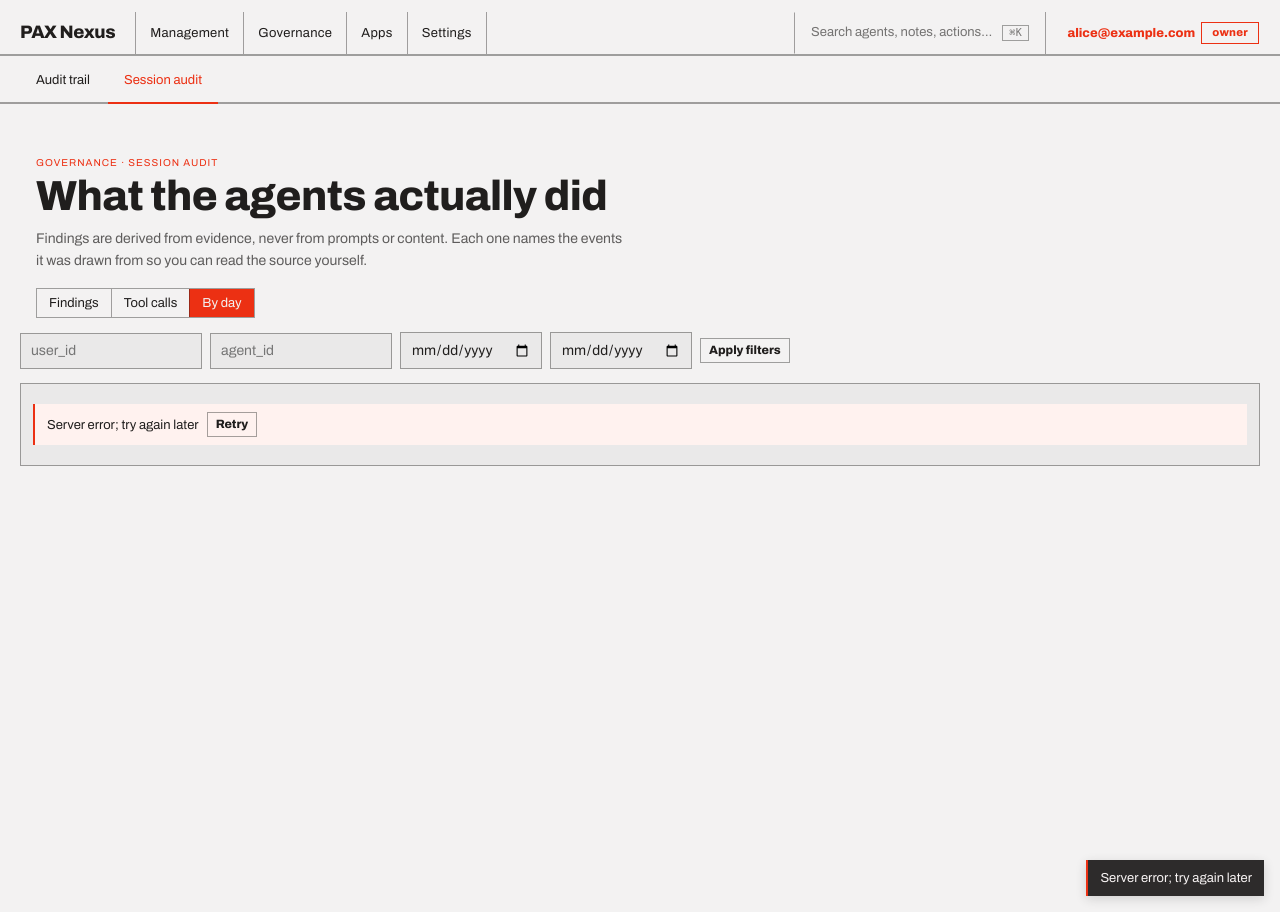
Test: Session Audit page: a failing view only collapses that view, Seg still switches › 按天视图失败时（ActivityView 的 RegionError）其余视图仍可切换
Expected: the button "Retry" is shown, [207,412,257,437]
Step 1. Click the button "Findings" → (74, 303), box [37,289,111,317]
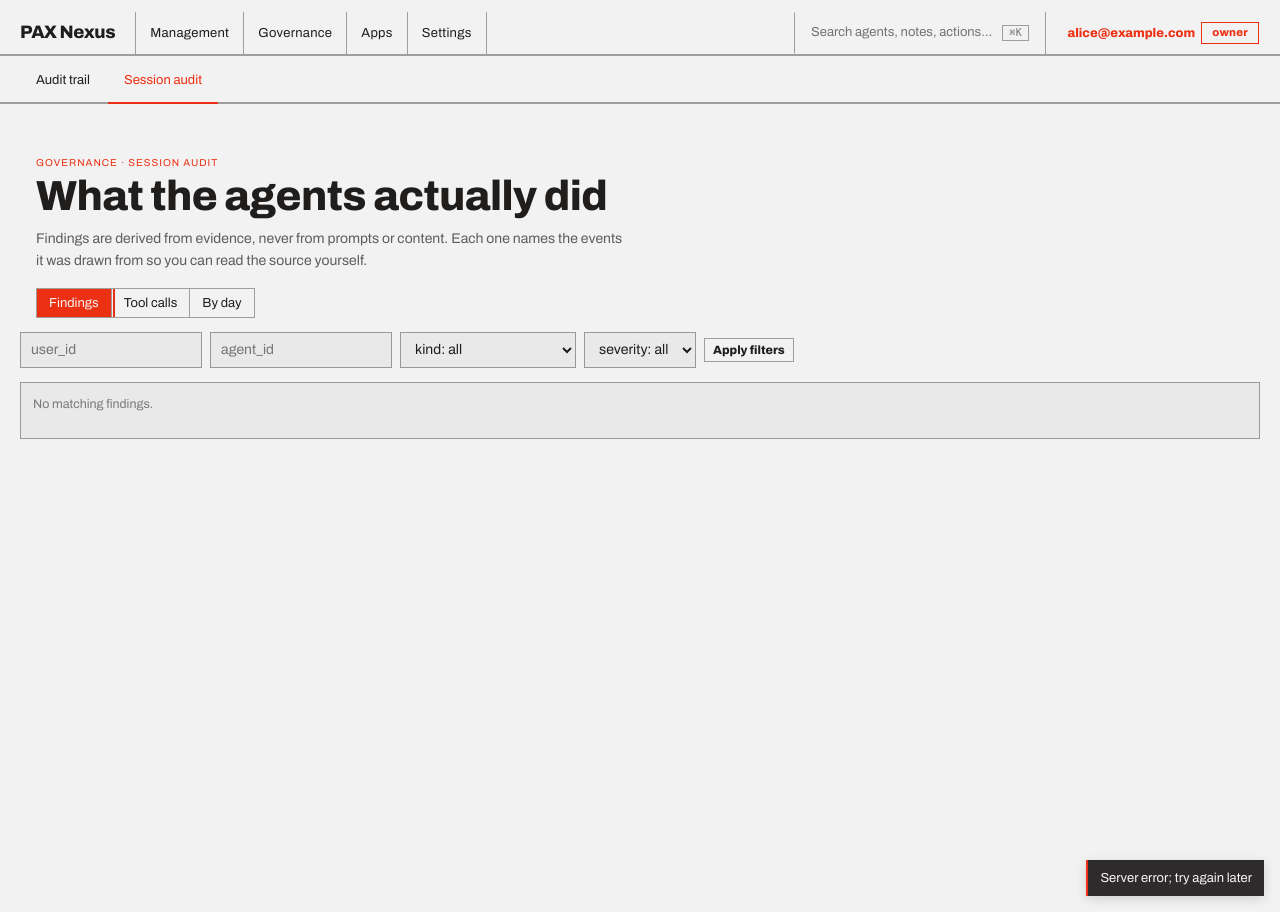
Expected: the text "No matching findings." is shown, [33,397,153,411]
